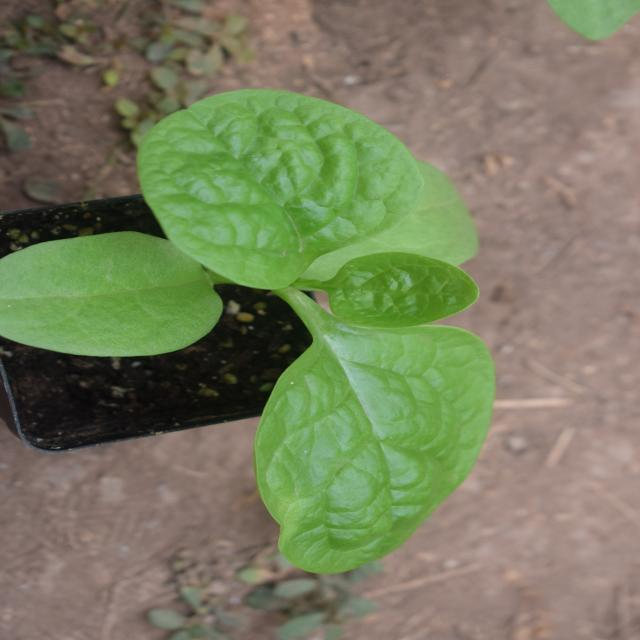Ceylon spinach: (76, 137, 543, 602)
